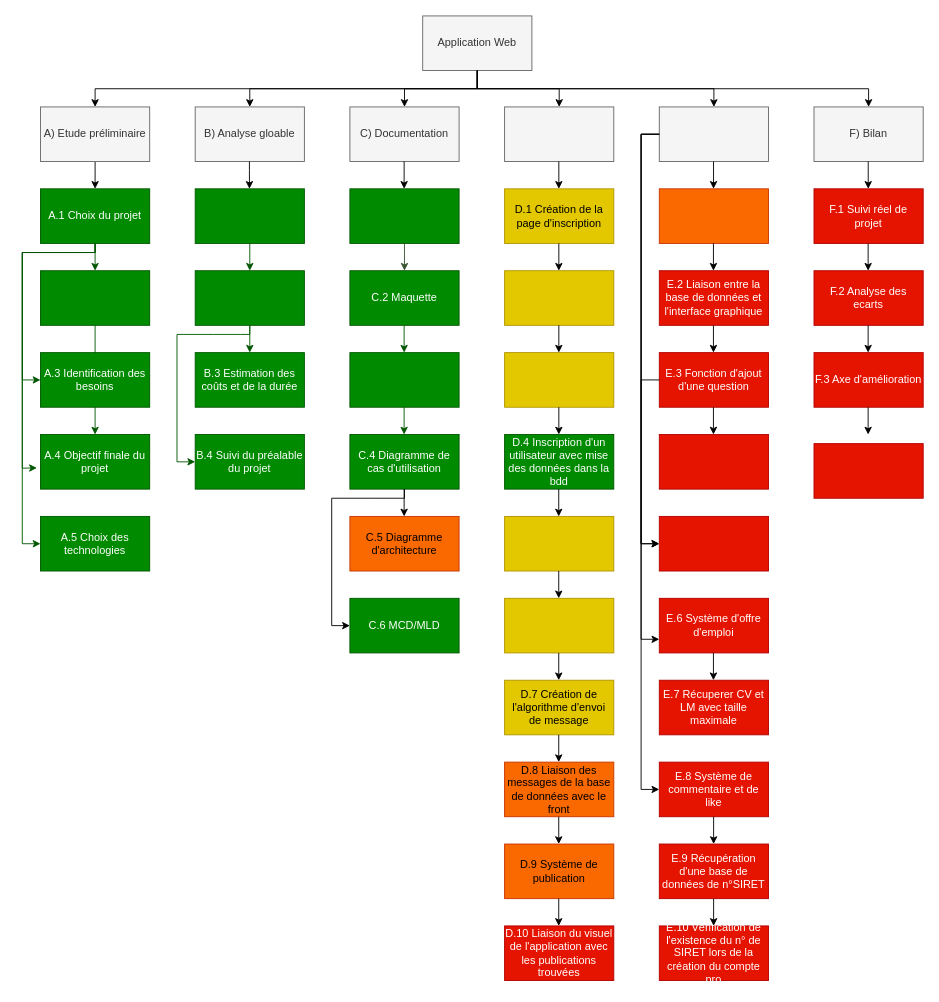
Image size: 939x1002. Some labels were removed from this diagram. The centre of each missing label's shape, as x and y in pixels:
"A.2 Organisation du travail" goes at (95,297).
"B.1 Liste des tâches" goes at (249,215).
"B.2 WBS" goes at (249,297).
"C.1 Sketch" goes at (404,215).
"C.3 Scenarii" goes at (404,379).
"D) Développement fonctionnalités principales" goes at (559,134).
"D.2 Création de la page connexion" goes at (559,297).
"D.3 Création des tables dans la base de données" goes at (559,379).
"D.5 Système de connexion avec validation ou non" goes at (559,543).
"D.6 Création de la page d'accueil (profil d'utilisateur)" goes at (559,625).
"E) Développement fonctionnalités secondaire" goes at (713,134).
"E.1 Création de la page FAQ" goes at (713,215).
"E.4 Fonction de vérification de duplication de question" goes at (713,461).
"E.5 Système de follow" goes at (713,543).
"F.4 Vidéo de présentation" goes at (868,470).
